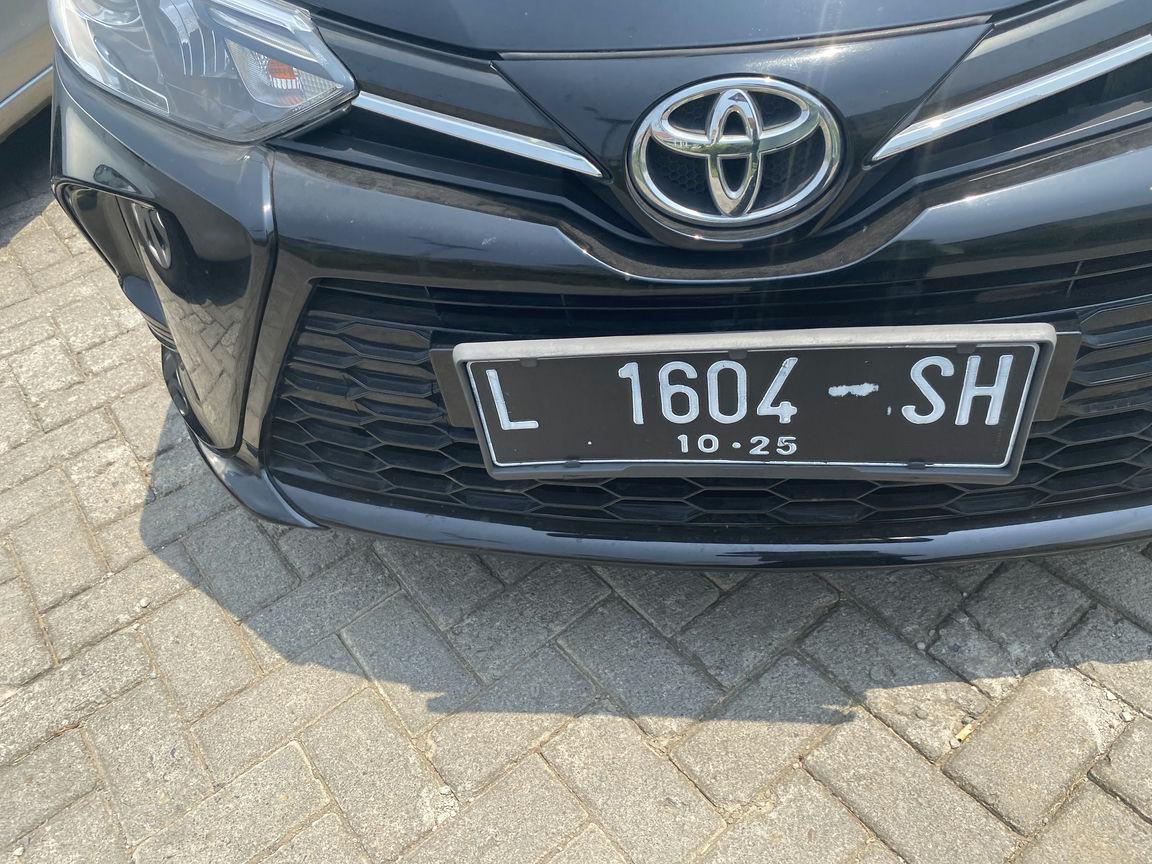plat: (452, 324, 1053, 481)
